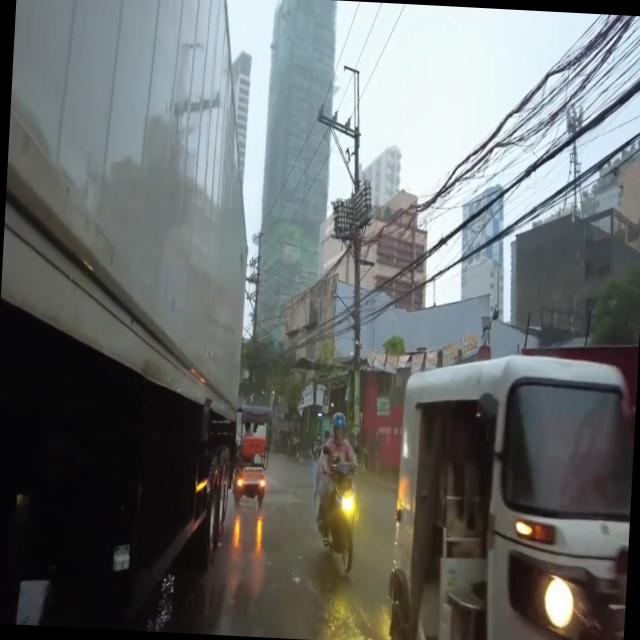half: (331, 412, 347, 444)
